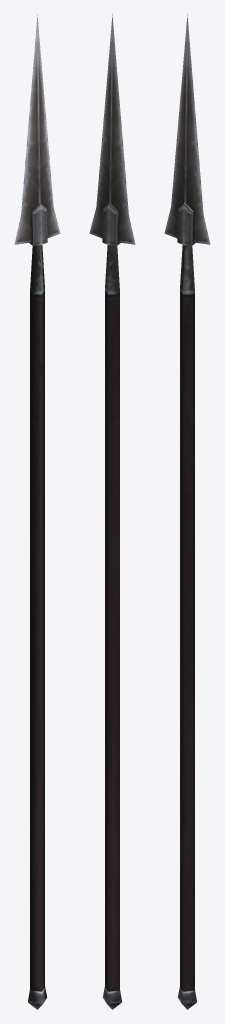
The model's file is Polearm04.FBX.
The picture shows the model from 3 angles, left to right: view 1: azimuth 30°, elevation 25°; view 2: azimuth 150°, elevation 25°; view 3: azimuth 330°, elevation 25°; orthographic projection.
Parts seen in each view (by area): view 1: Polearm04; view 2: Polearm04; view 3: Polearm04.
Boxes of the visible parts, box(x1,y1,x2,y2) form: Polearm04: box(14, 14, 60, 1009); Polearm04: box(89, 14, 135, 1009); Polearm04: box(164, 14, 210, 1009).
Bounding box in the file's own units: 11.7 × 242 × 4.94.
